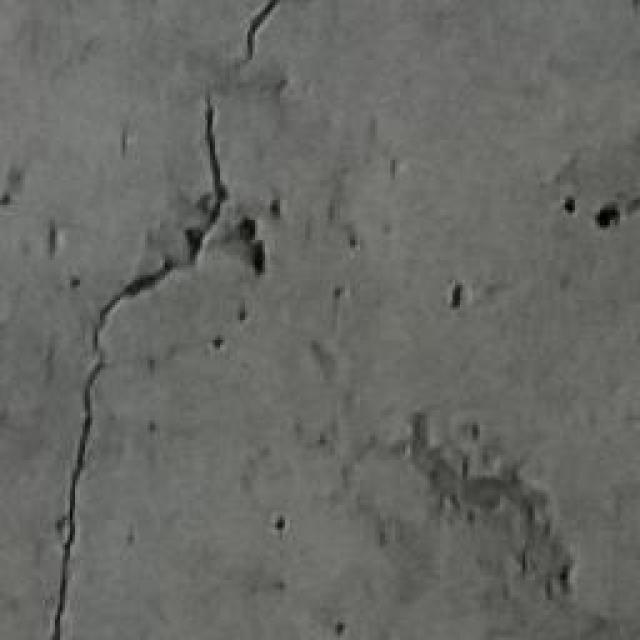Longitudinal: (46, 1, 276, 640)
Rippled: (324, 149, 630, 640)
